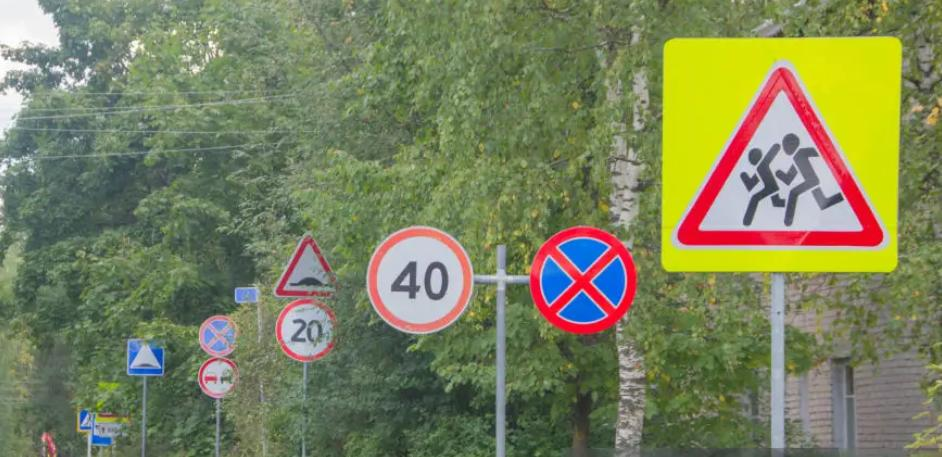obstructed_road_sign: (274, 233, 342, 297), (275, 298, 340, 363), (198, 356, 240, 397), (199, 315, 239, 356), (127, 339, 165, 375), (76, 405, 96, 432)
road_sign: (661, 35, 901, 272), (526, 222, 640, 336), (367, 224, 473, 335)
